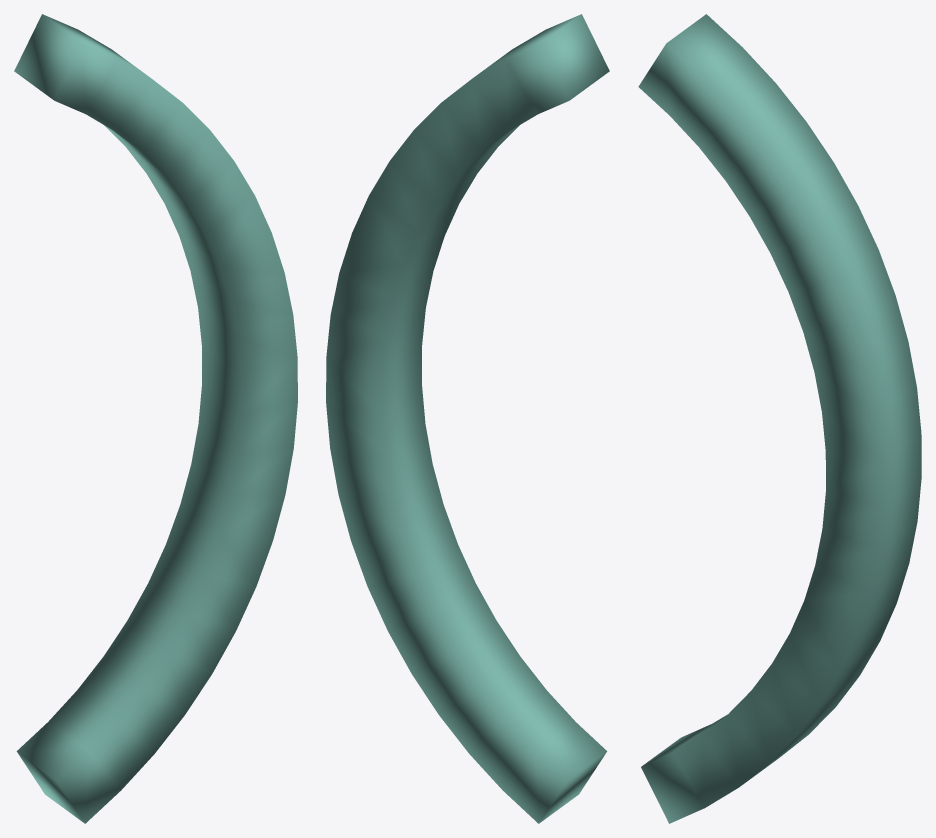
File: Stopper_right.obj
3 renders of one model, left to right at view 1: azimuth 30°, elevation 25°; view 2: azimuth 150°, elevation 25°; view 3: azimuth 330°, elevation 25°, orthographic.
Visible parts, largest first — view 1: Arc02; view 2: Arc02; view 3: Arc02.
Boxes of the visible parts, bbox=[...] form: Arc02: bbox=[14, 14, 297, 823]; Arc02: bbox=[326, 14, 609, 823]; Arc02: bbox=[638, 14, 921, 823].
Size of the model in its own units: 1.48 by 4.54 by 0.4237.
